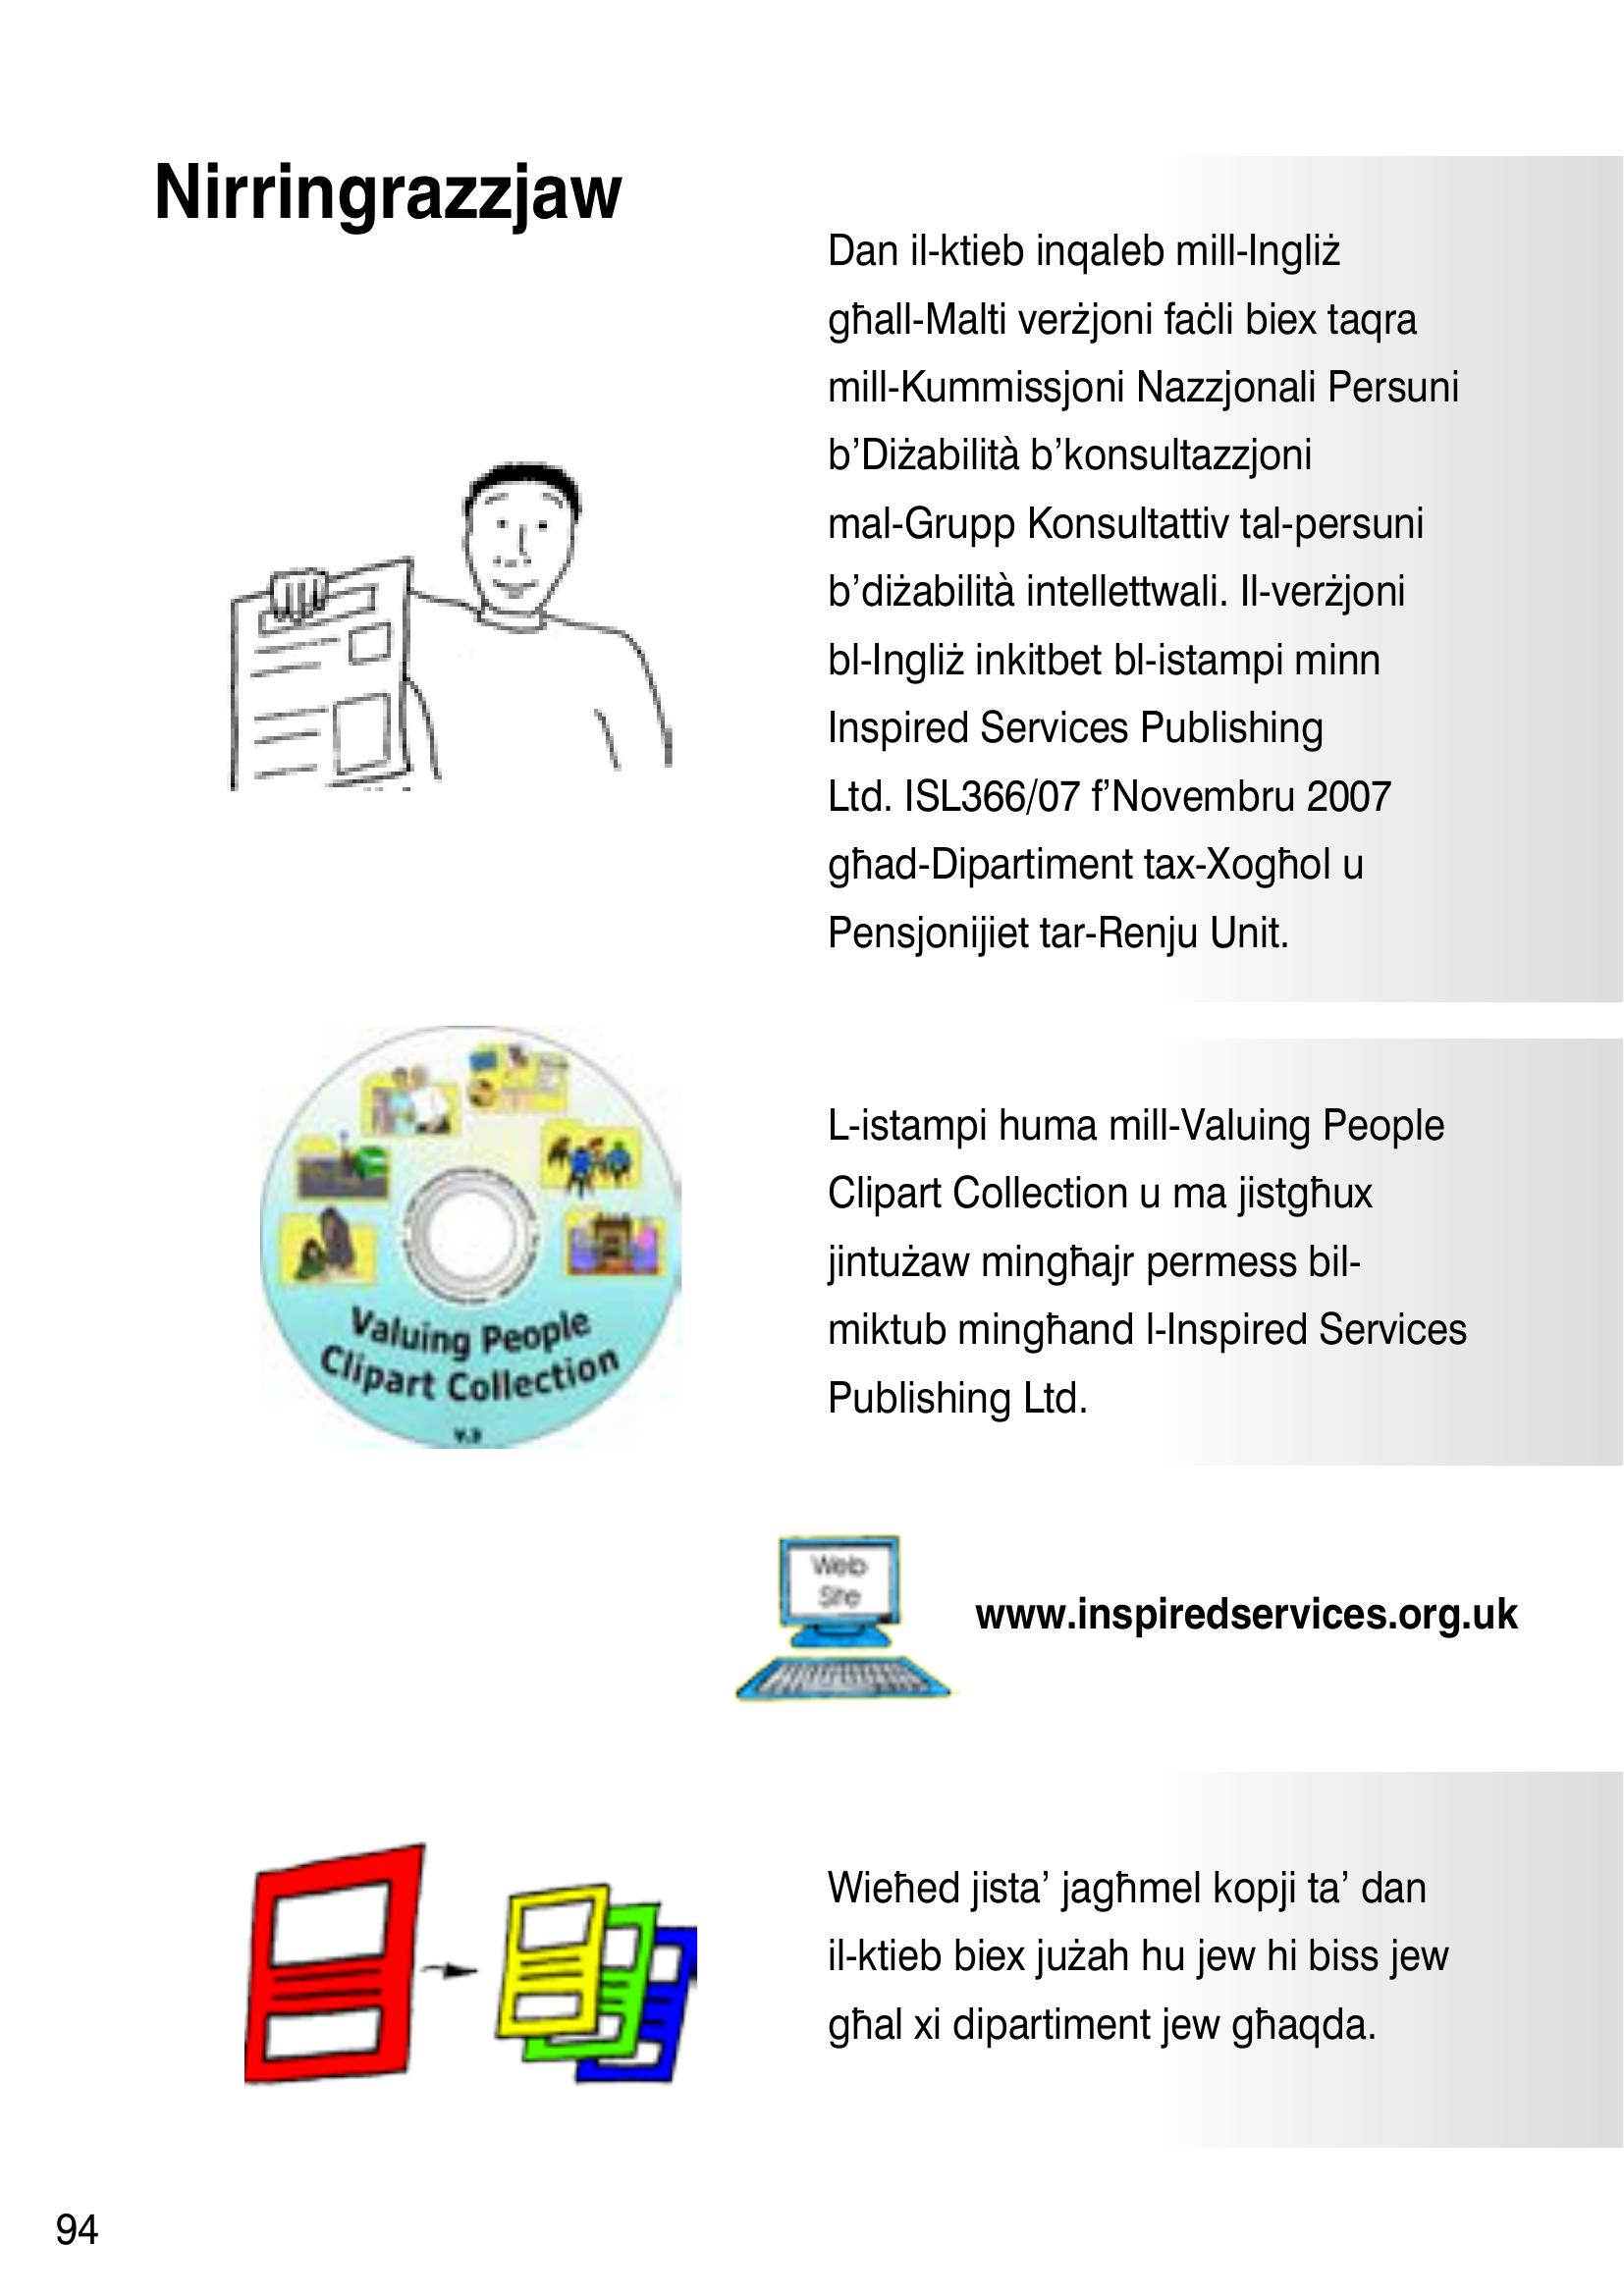text: (128, 132, 636, 253)
